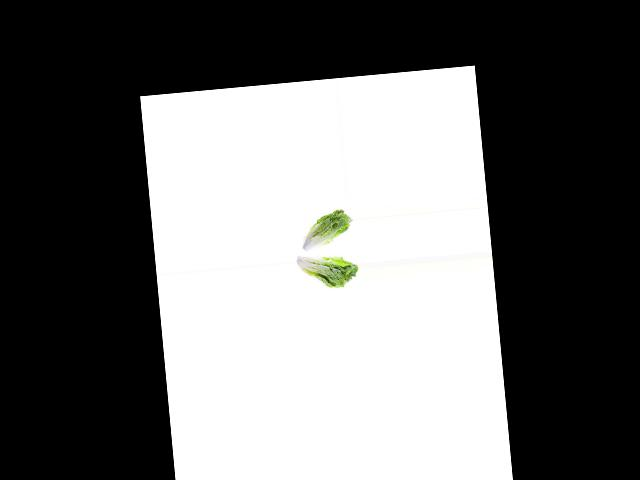lettuce: (293, 207, 353, 252)
